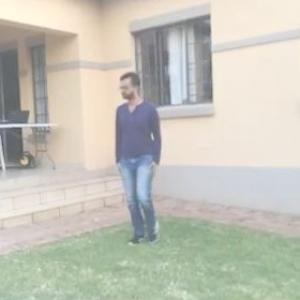follow: (107, 63, 165, 255)
